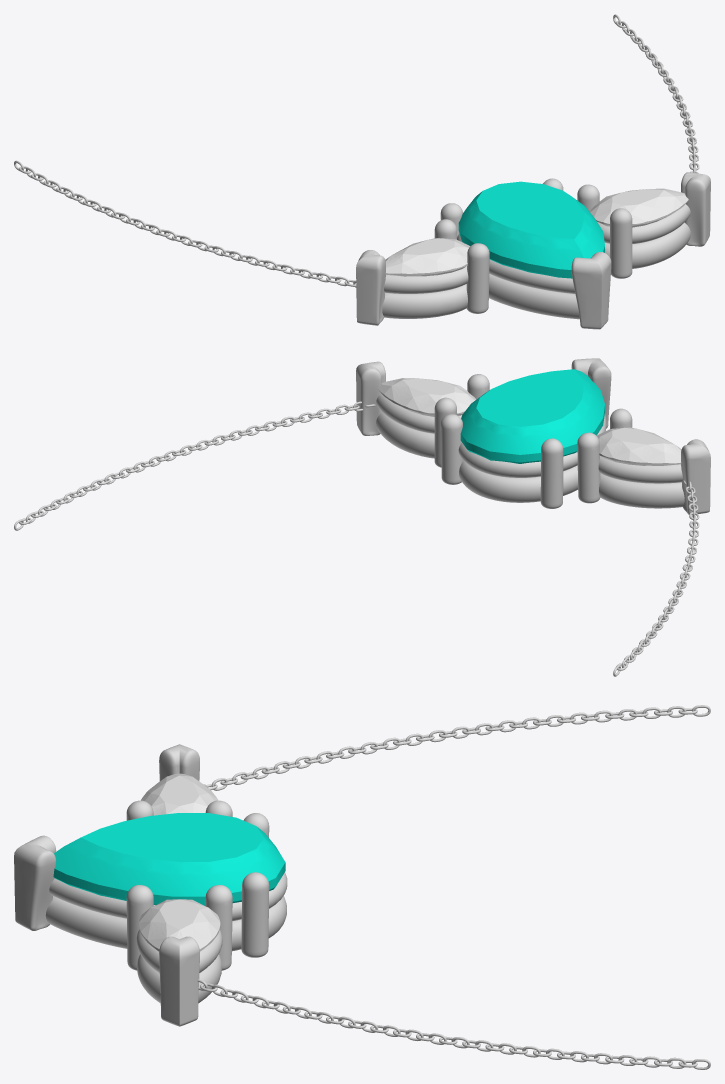
Rendered from Dan3stonePendantPT.glb.
The picture shows the model from 3 angles, top to bottom: view 1: azimuth 30°, elevation 25°; view 2: azimuth 150°, elevation 25°; view 3: azimuth 270°, elevation 25°; orthographic projection. The views are drawn at different scales.
Parts seen in each view (by area): view 1: Dan PT for 3d model, Dan tourmaline for 3d model, Dan dia for 3d model.001, Dan dia for 3d model; view 2: Dan PT for 3d model, Dan tourmaline for 3d model, Dan dia for 3d model.001, Dan dia for 3d model; view 3: Dan PT for 3d model, Dan tourmaline for 3d model, Dan dia for 3d model, Dan dia for 3d model.001.
Part boxes in pixels (x1,y1,x2,y2): Dan PT for 3d model: [14, 14, 710, 329]; Dan tourmaline for 3d model: [458, 181, 604, 278]; Dan dia for 3d model.001: [385, 238, 470, 276]; Dan dia for 3d model: [590, 188, 688, 227]; Dan PT for 3d model: [14, 358, 710, 676]; Dan tourmaline for 3d model: [460, 369, 604, 463]; Dan dia for 3d model.001: [597, 427, 681, 465]; Dan dia for 3d model: [378, 378, 475, 416]; Dan PT for 3d model: [14, 705, 710, 1069]; Dan tourmaline for 3d model: [53, 813, 285, 905]; Dan dia for 3d model: [139, 899, 220, 951]; Dan dia for 3d model.001: [141, 773, 218, 815].
Size of the model in its own units: 31.19 by 3.84 by 25.68.
